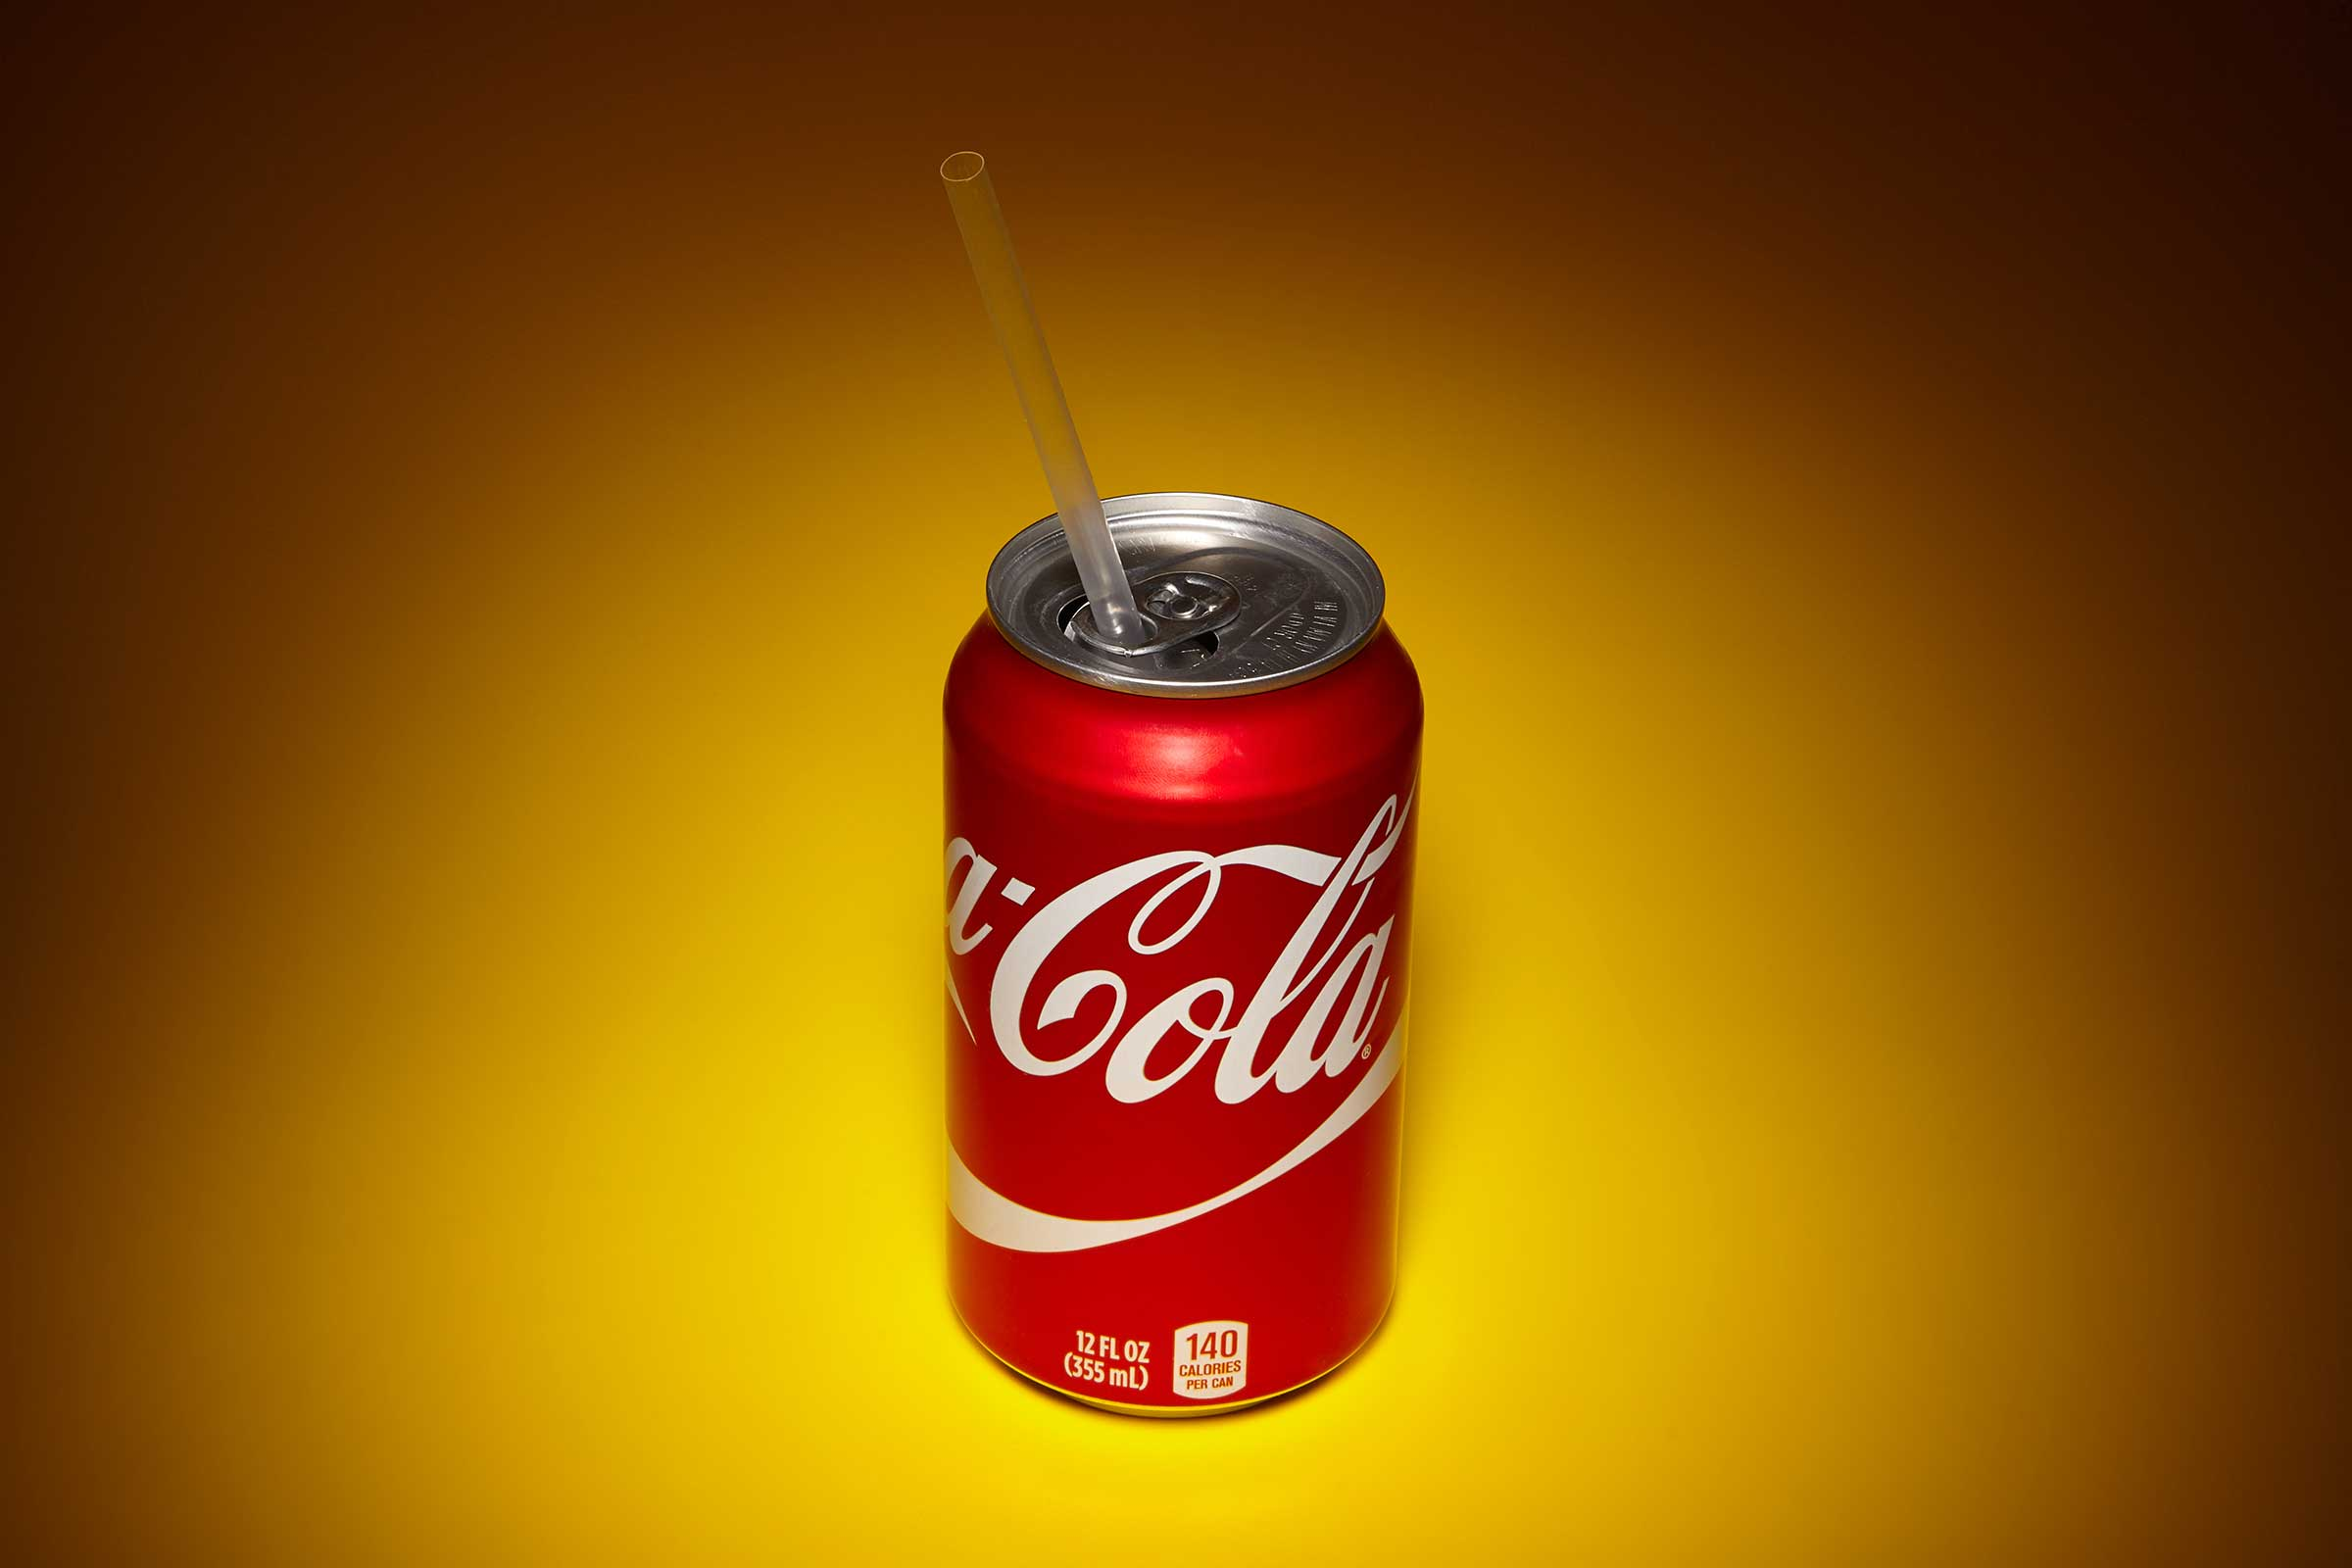coke: (954, 527, 1389, 1403)
